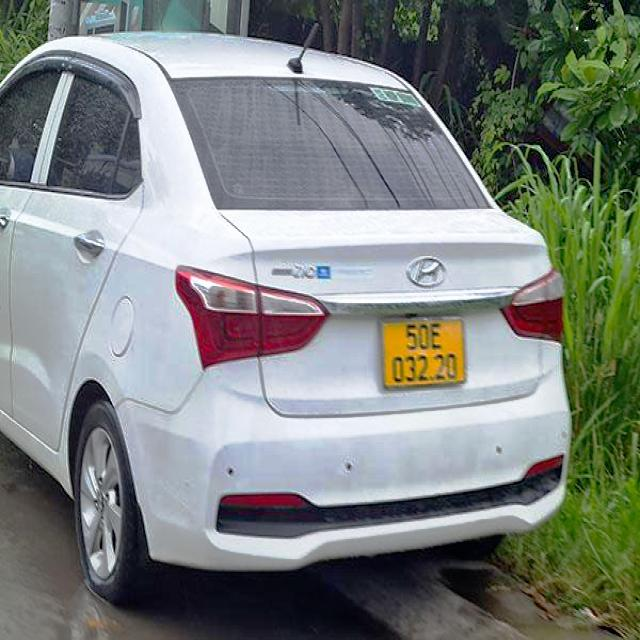license_plate: (381, 317, 466, 391)
